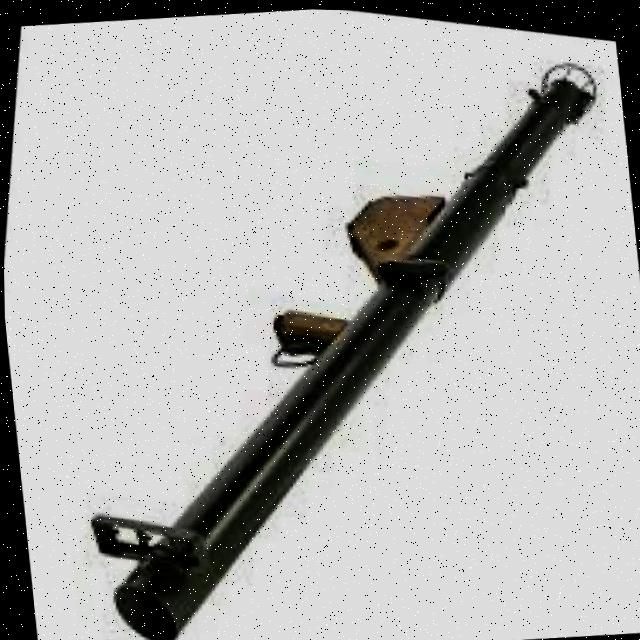rocket: (19, 0, 640, 640)
